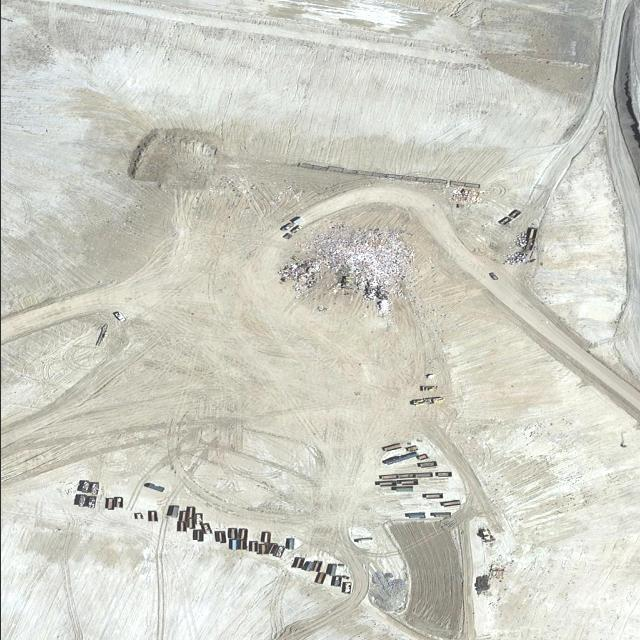dump_site: (273, 224, 415, 320)
